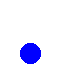circle: (20, 43, 40, 63)
